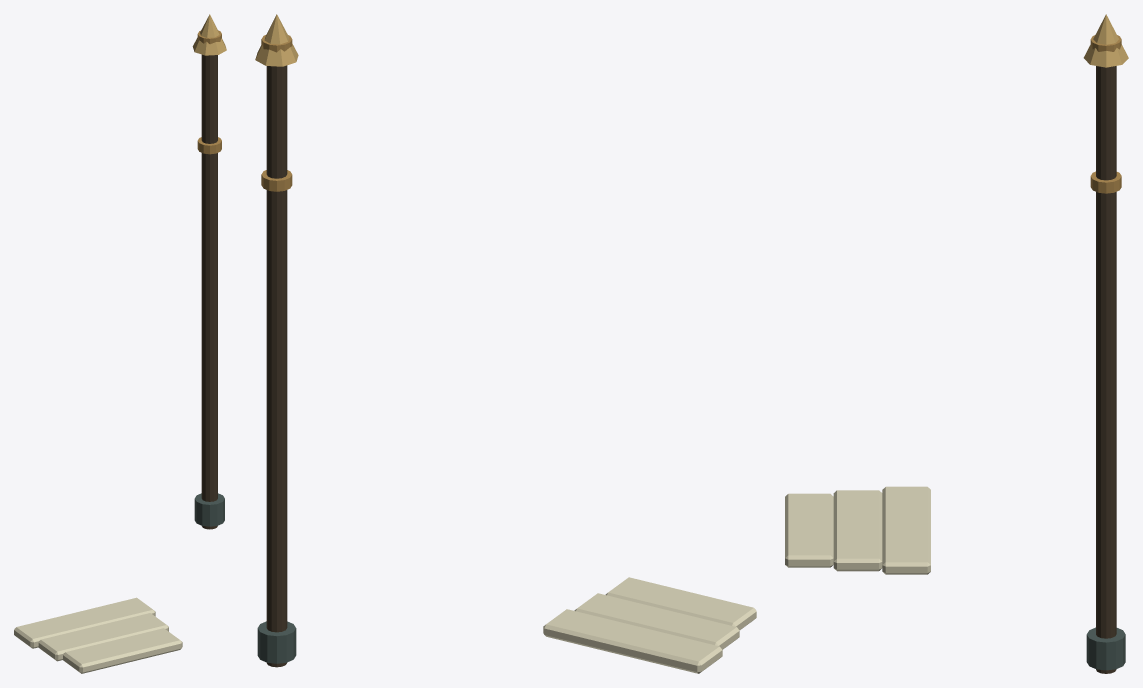
The model's file is foundation.glb.
The picture shows the model from 3 angles, left to right: view 1: azimuth 30°, elevation 25°; view 2: azimuth 150°, elevation 25°; view 3: azimuth 270°, elevation 25°; orthographic projection. The views are drawn at different scales.
Parts seen in each view (by area): view 1: Stone, Timber, Metal; view 2: Timber, Stone, Metal; view 3: Stone, Timber, Metal.
Boxes of the visible parts, box(x1,y1,x2,y2) form: Stone: box(14, 597, 182, 673); Timber: box(201, 54, 217, 529); Metal: box(192, 14, 226, 526); Timber: box(266, 65, 287, 667); Stone: box(543, 577, 756, 673); Metal: box(255, 14, 298, 663); Stone: box(785, 486, 930, 574); Timber: box(1096, 66, 1116, 673); Metal: box(1083, 14, 1128, 670).
Bounding box in the file's own units: 2.56 × 4.46 × 2.12.
